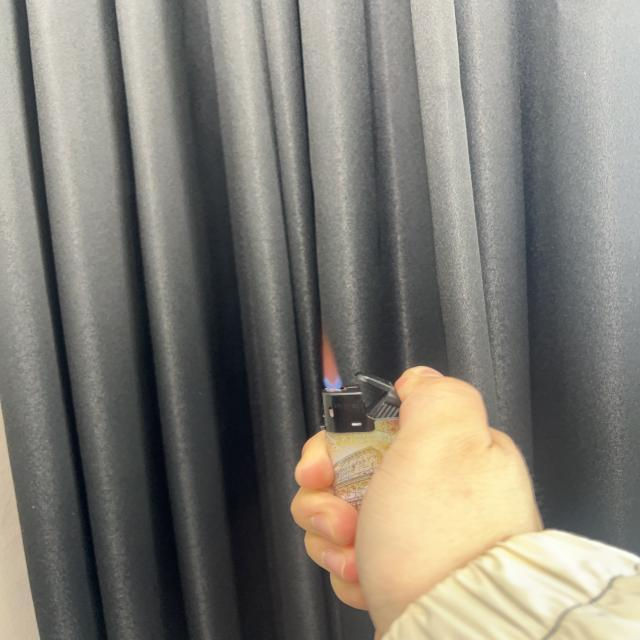fire: (320, 332, 344, 392)
